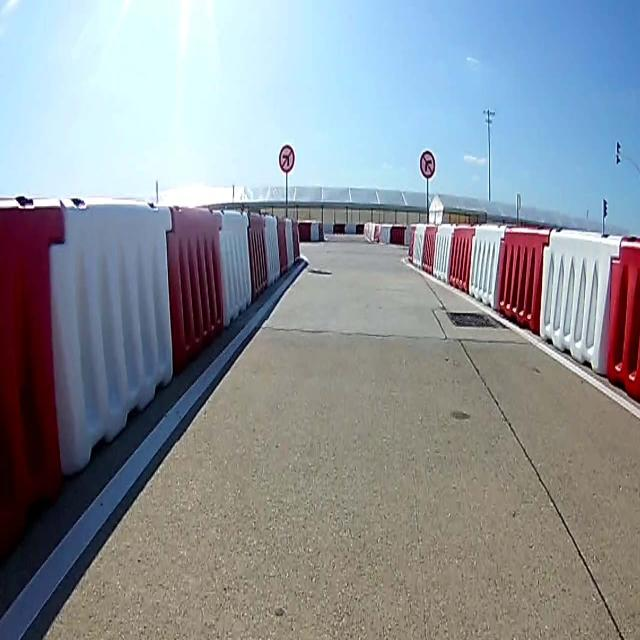sagadonulmez: (420, 150, 435, 178)
soladonulmez: (277, 146, 294, 170)
